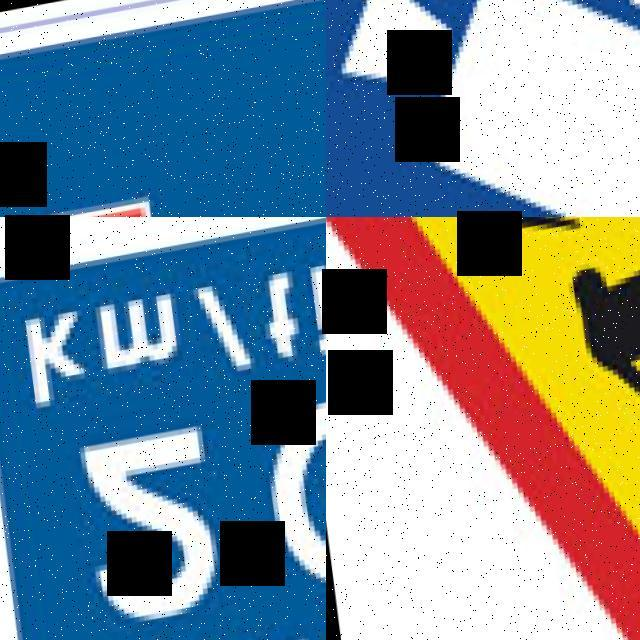1: (326, 0, 640, 217)
178: (0, 0, 326, 217)
Slippery road: (326, 217, 640, 640)
lowspeed zone: (0, 217, 326, 640)
